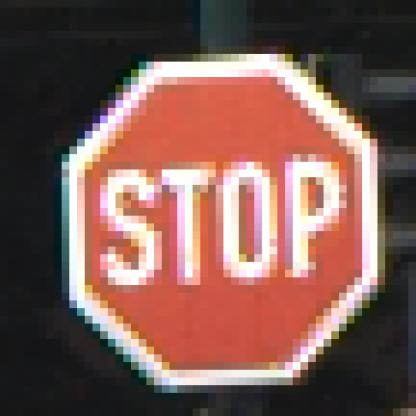stop: (49, 72, 385, 388)
